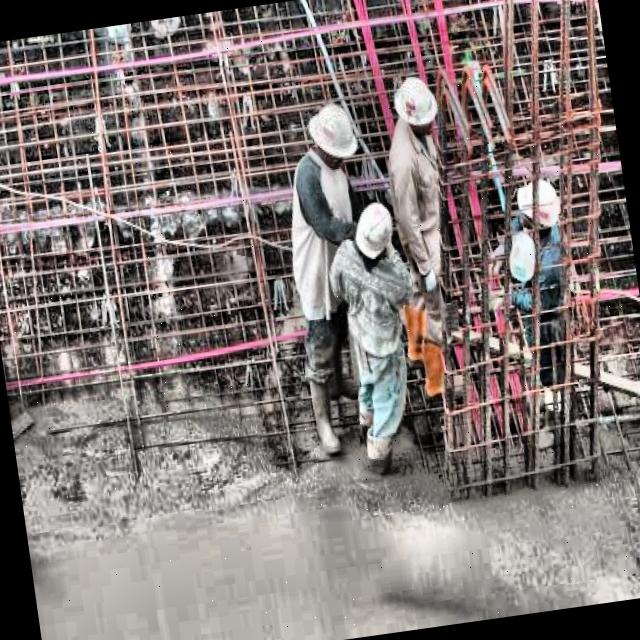helmet: (304, 98, 364, 174), (511, 172, 567, 240), (349, 198, 402, 267), (394, 70, 440, 136)
